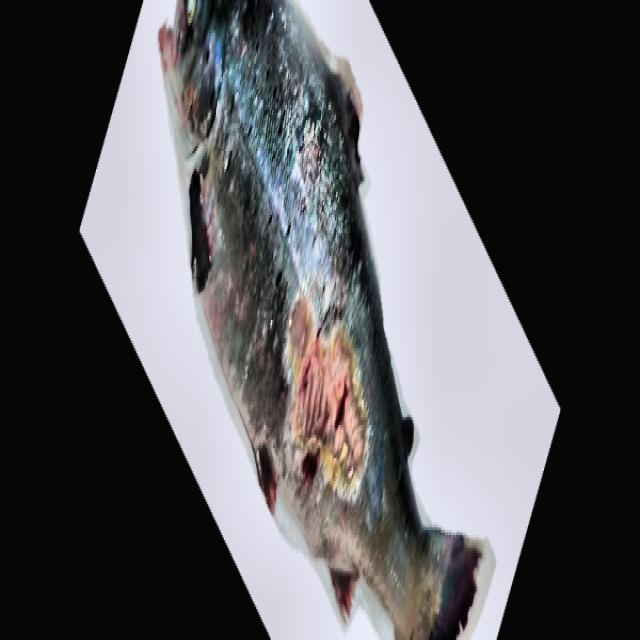mild_red: (198, 0, 467, 637)
wound: (285, 279, 369, 504)
